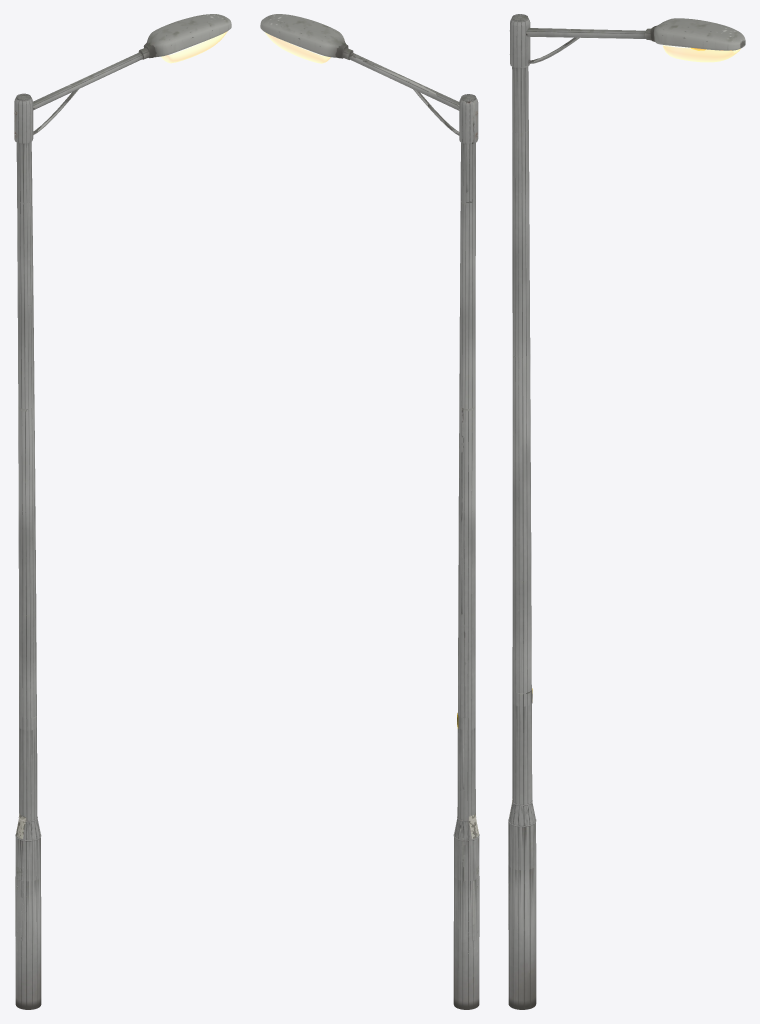
Rendered from streetlight-weathered-01.glb.
The picture shows the model from 3 angles, left to right: view 1: azimuth 30°, elevation 25°; view 2: azimuth 150°, elevation 25°; view 3: azimuth 330°, elevation 25°; orthographic projection. The views are drawn at different scales.
Parts seen in each view (by area): view 1: Pole_LOD0, LampHousing_LOD0, Arm_LOD0, LampGlass_LOD0; view 2: Pole_LOD0, LampHousing_LOD0, Arm_LOD0, LampGlass_LOD0; view 3: Pole_LOD0, LampHousing_LOD0, Arm_LOD0, LampGlass_LOD0.
Boxes of the visible parts, box(x1,y1,x2,y2) form: Pole_LOD0: box(15, 93, 41, 1009); LampHousing_LOD0: box(138, 14, 231, 59); Arm_LOD0: box(14, 52, 142, 143); LampGlass_LOD0: box(161, 31, 227, 63); Pole_LOD0: box(453, 94, 479, 1009); LampHousing_LOD0: box(260, 14, 353, 59); Arm_LOD0: box(349, 52, 478, 144); LampGlass_LOD0: box(265, 32, 330, 63); Pole_LOD0: box(508, 14, 536, 1009); LampHousing_LOD0: box(645, 18, 745, 50); Arm_LOD0: box(509, 15, 645, 68); LampGlass_LOD0: box(663, 45, 740, 62).
Size of what is drawn, in the model's own units: 1.87 by 7.85 by 0.2745.
Materials: 4 (1 with a texture image).
